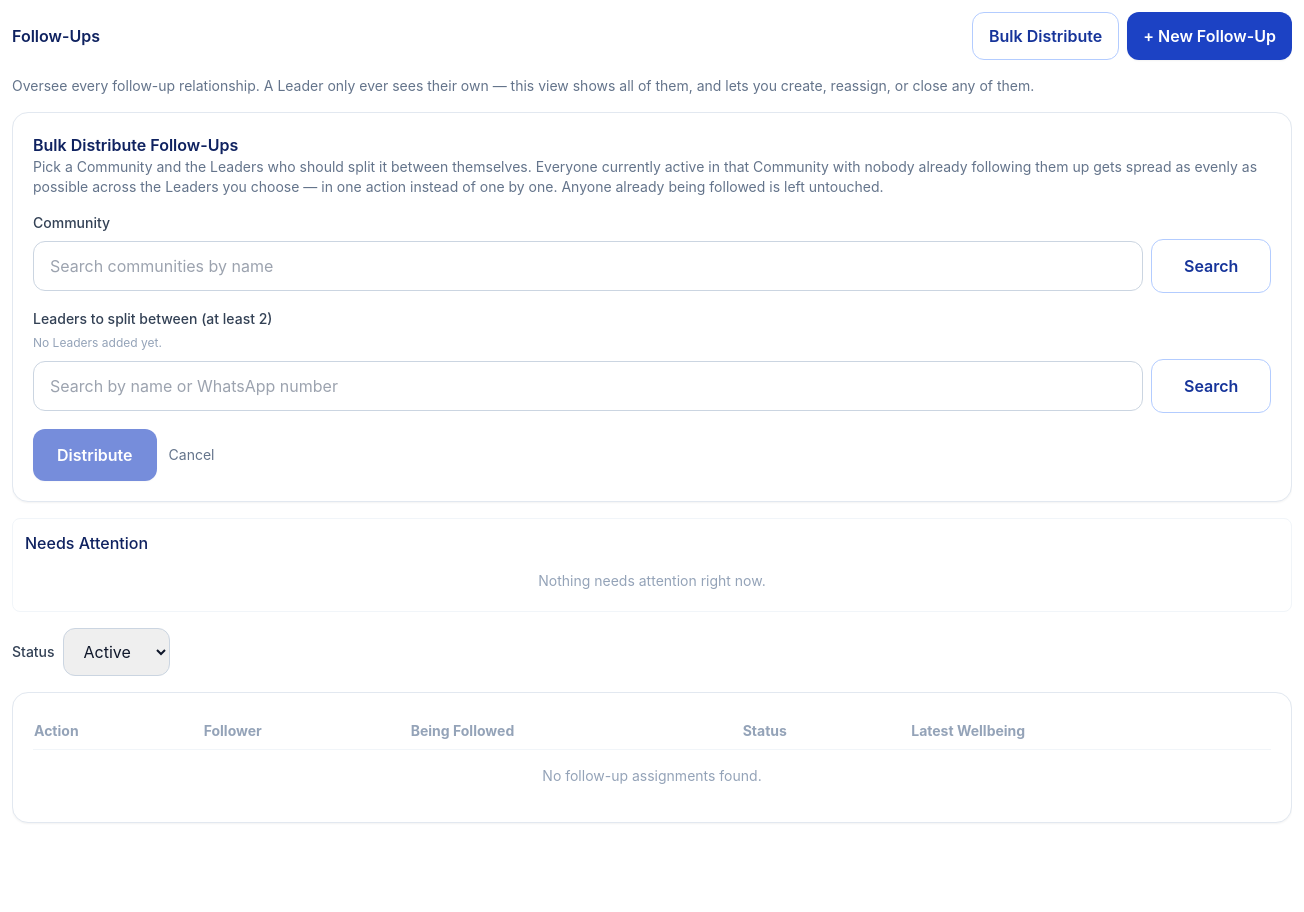
Test case: FollowUpsTab (Admin) — bulk distribute › picks a Community and at least two Leaders, submits, and shows the result summary
This screenshot has width=1304, height=912.
Earlier steps of the test are not shown.
Later steps or results of the test are not shown.
Type "Youth" into the field with placeholder "Search communities by name".
click(588, 266); type("Youth")  # box [33,241,1143,291]
Click the 1st button "Search".
click(1211, 266)  # box [1151,239,1271,293]
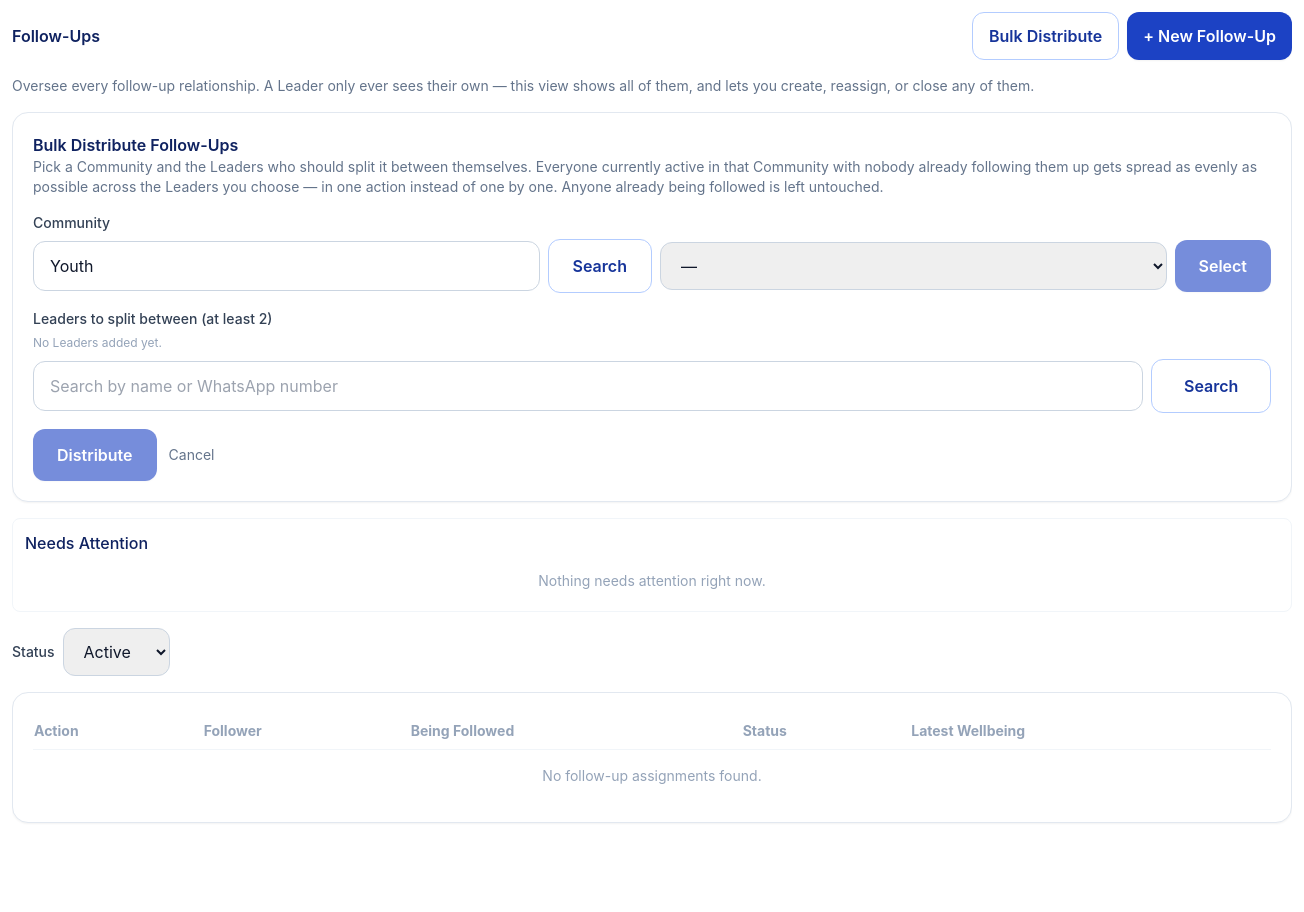
Select "Youth Ministry" in the 1st dropdown named "Youth Ministry" at (913, 266), box [660,242,1166,290]
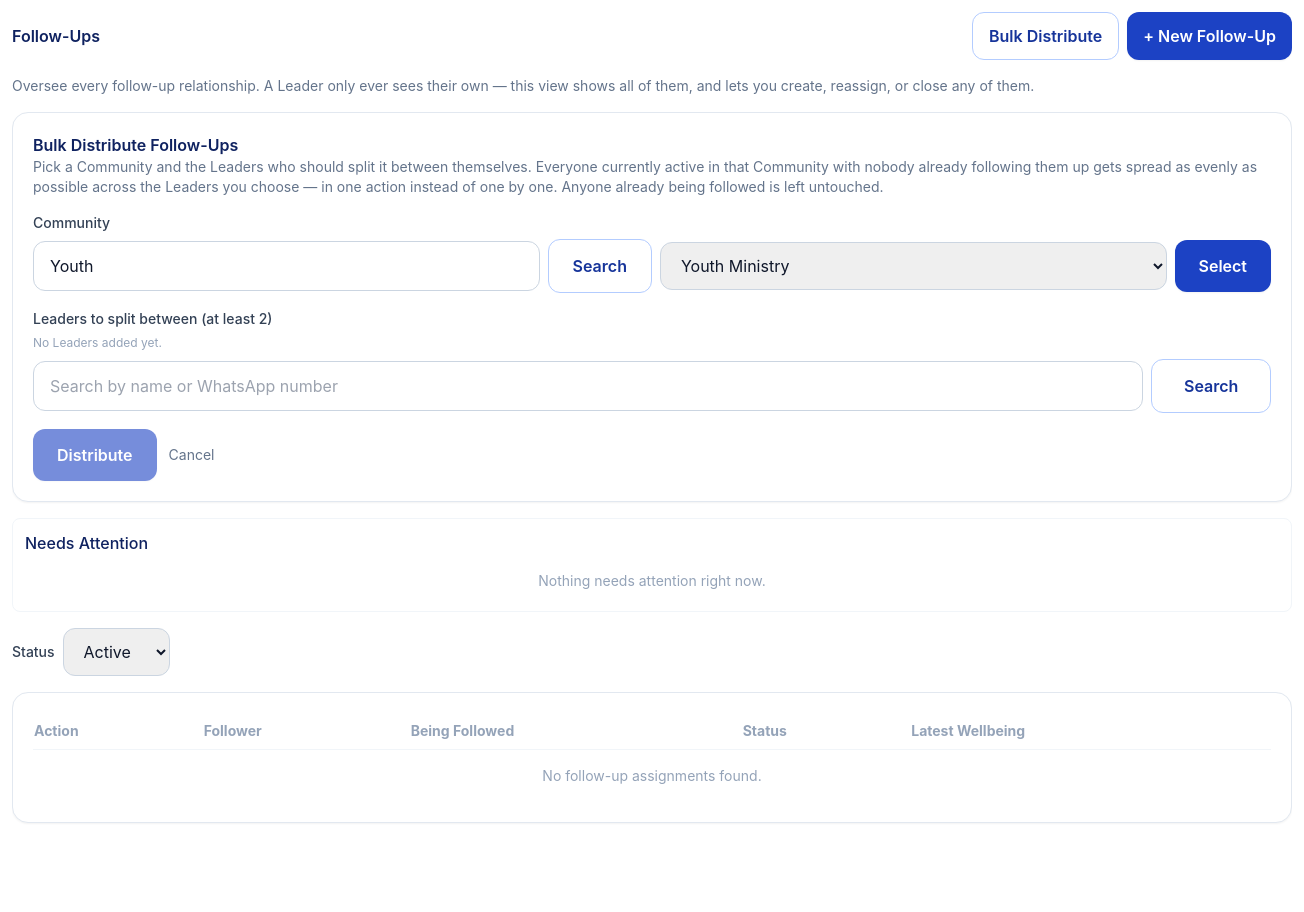
Click the button "Select".
click(1223, 266)  # box [1174,240,1271,292]
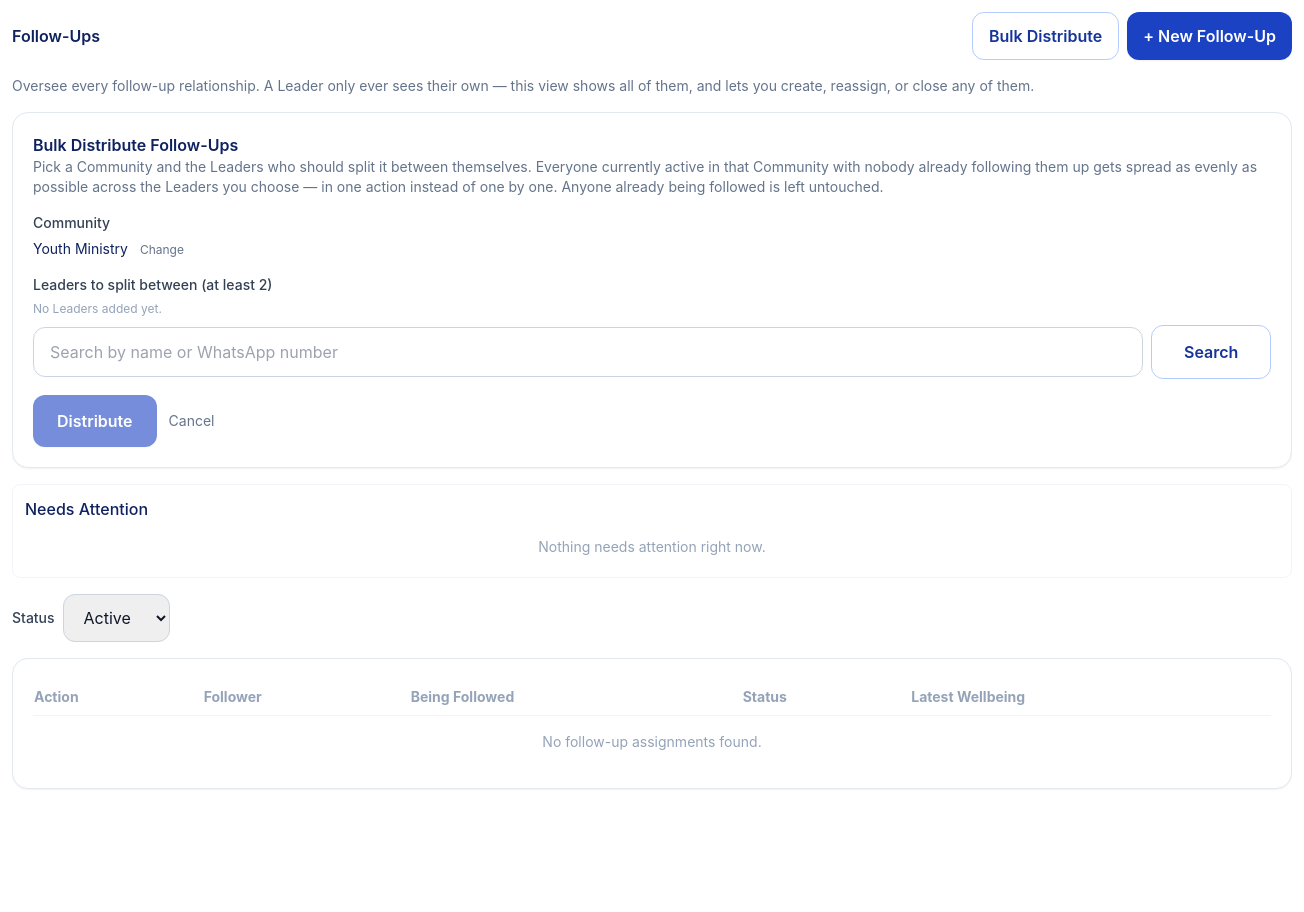
Type "leader1" into the field with placeholder "Search by name or WhatsApp number".
click(588, 352); type("leader1")  # box [33,327,1143,377]
Click the button "Search".
click(1211, 352)  # box [1151,325,1271,379]
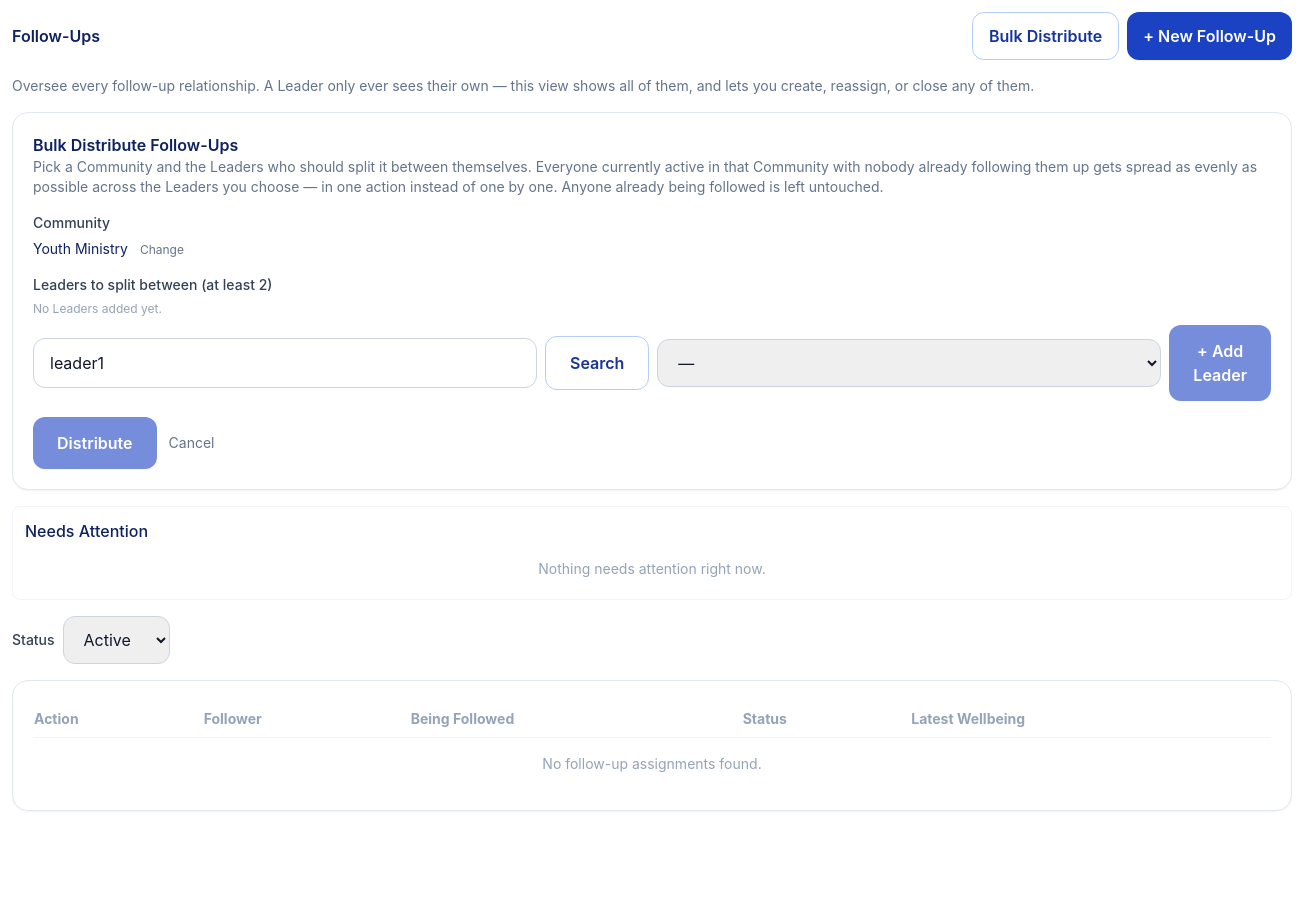
Select "Leader One (+237600000001)" in the 1st dropdown named "Leader One (+237600000001)" at (909, 363), box [657,339,1161,387]
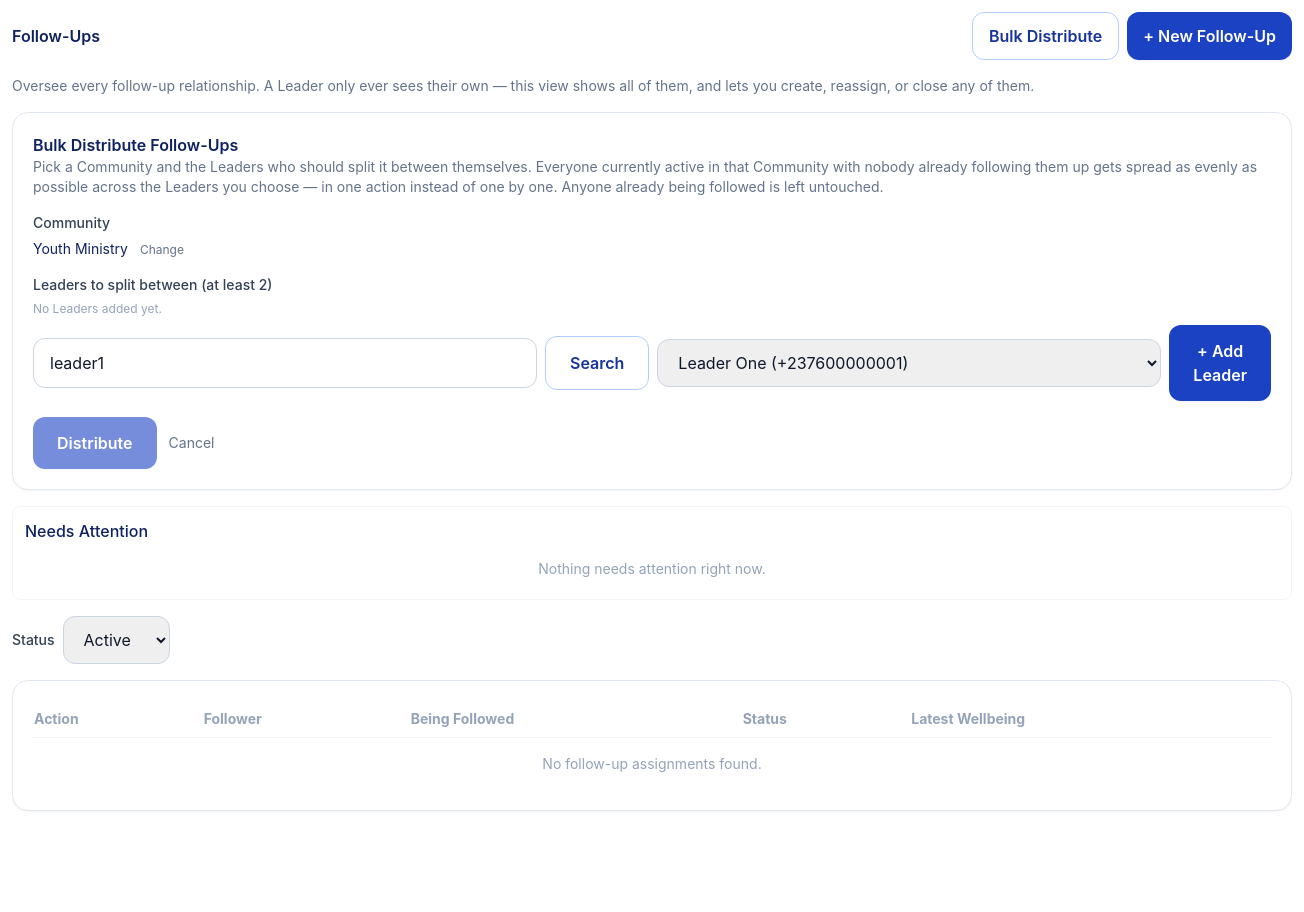
Click the button "+ Add Leader".
click(1220, 363)  # box [1169,325,1271,401]
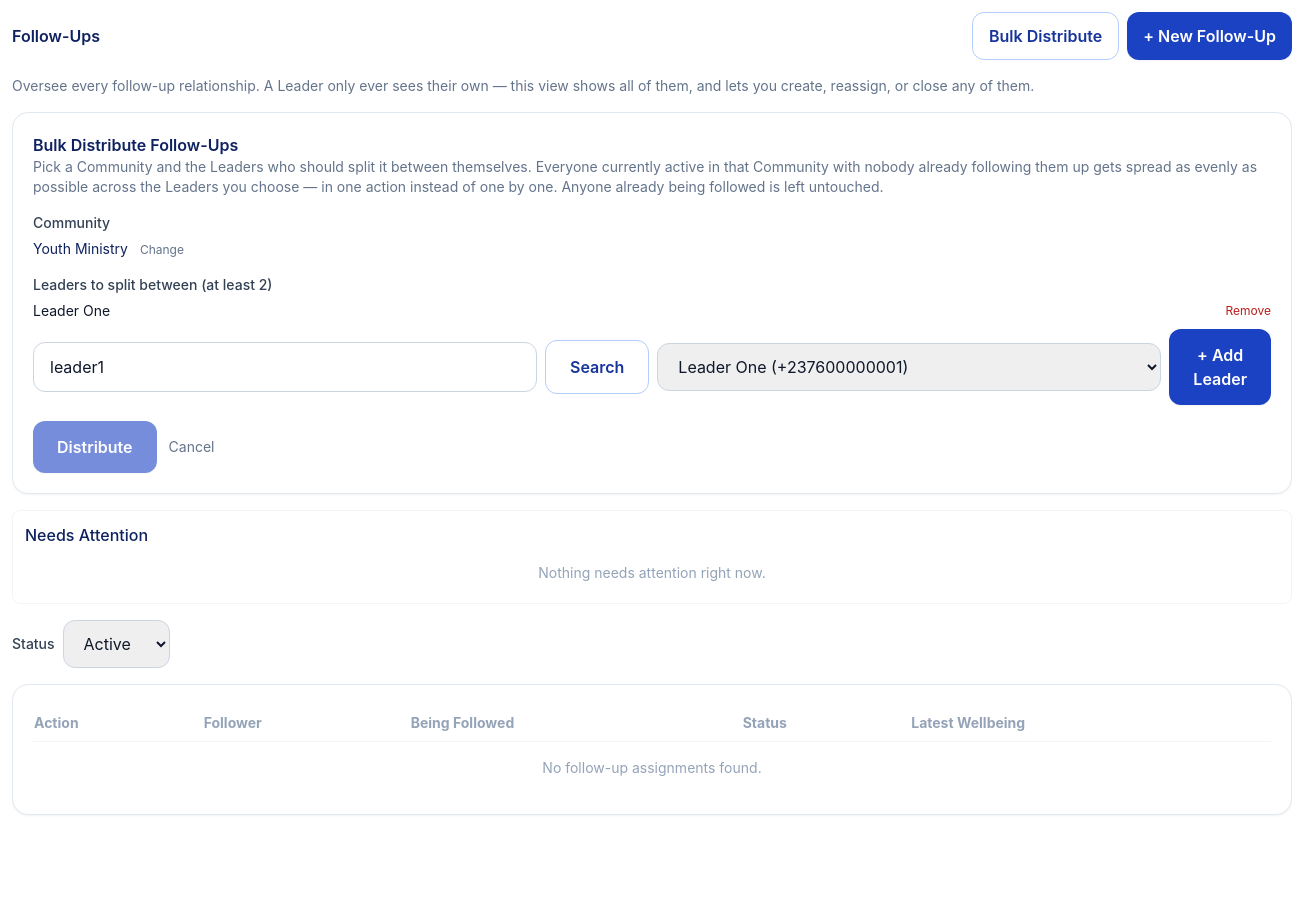
expect the text "Leader One" is shown: met, box [33,301,110,321]
